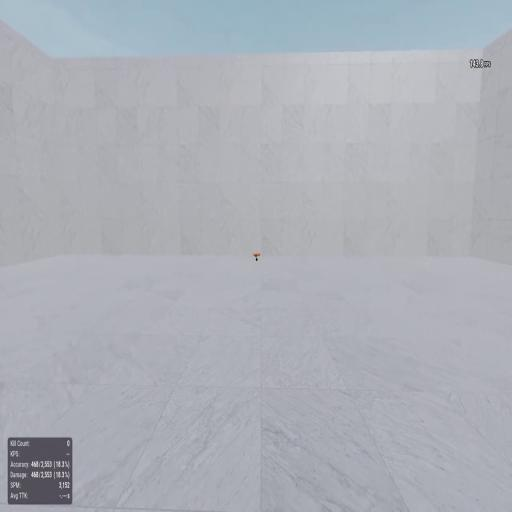Crosshair: (255, 254, 257, 258)
Target: (256, 258, 258, 262)
